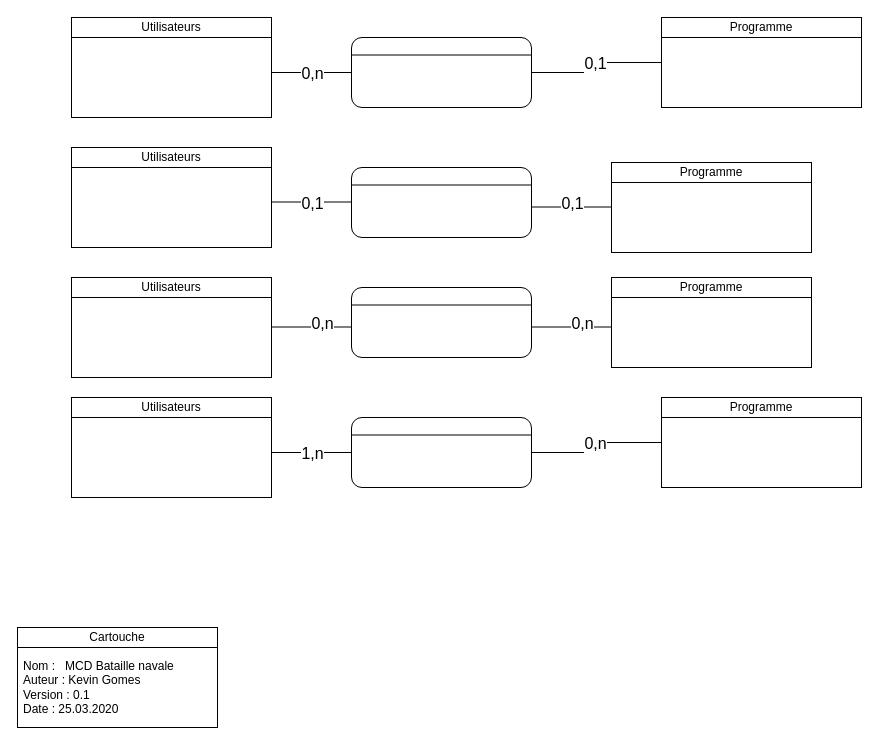
Image size: 879x745. Some labels were removed from this diagram. The centre of each missing label's shape, as x and y in pixels:
"Gagner" belongs at point 441,452.
"Identifier" belongs at point 441,322.
"Jouer" belongs at point 441,202.
"Lancer" belongs at point 441,72.
